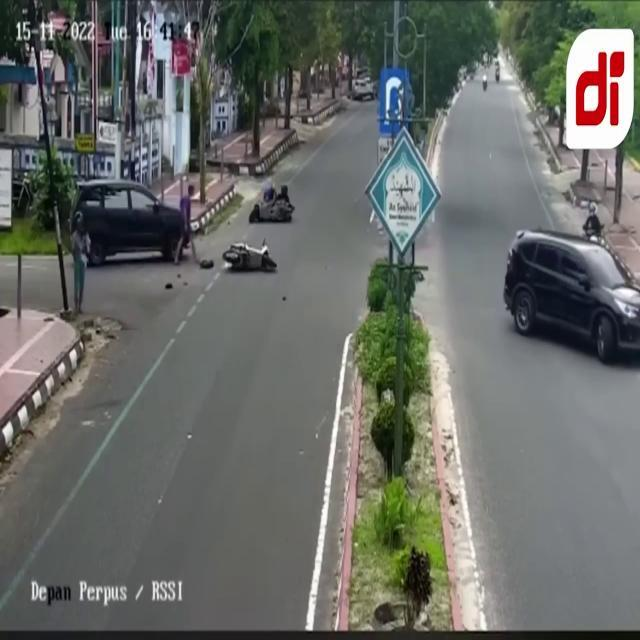multiple_accident: (45, 153, 211, 296), (221, 167, 335, 227), (213, 232, 296, 290)
normal: (470, 222, 640, 377)
